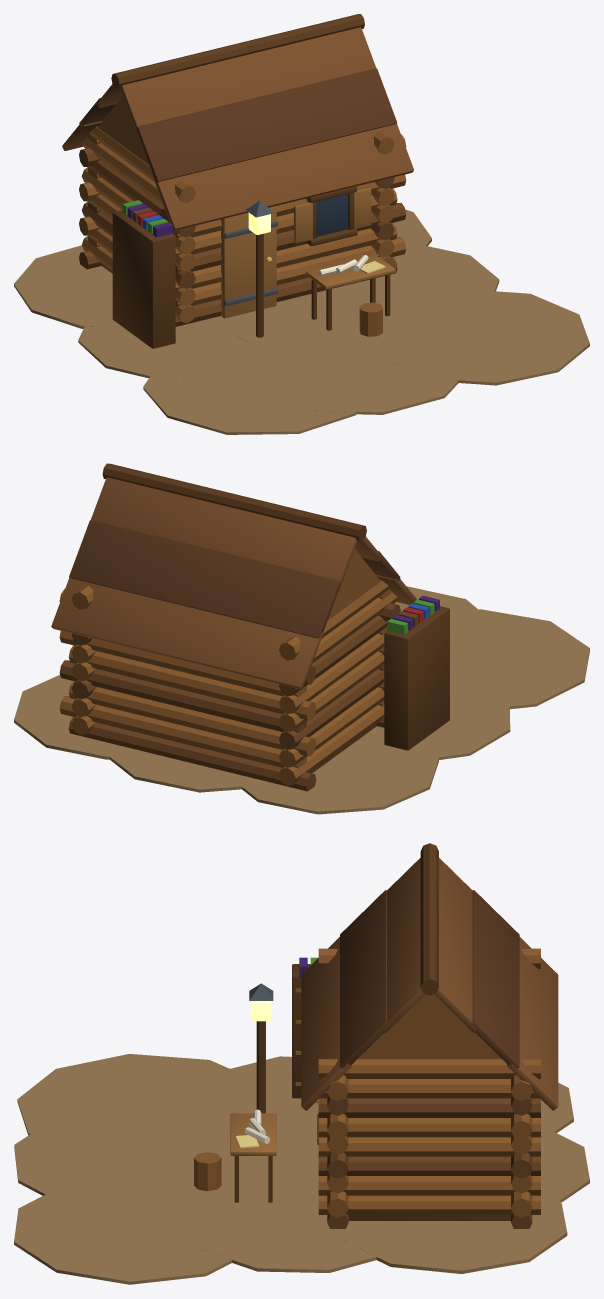
The model's file is akademia_poz02.glb.
3 views of the same model, one above another, from view 1: azimuth 30°, elevation 25°; view 2: azimuth 150°, elevation 25°; view 3: azimuth 270°, elevation 25° (orthographic). The views are drawn at different scales.
Visible parts, largest first — view 1: akademia_poz02; view 2: akademia_poz02; view 3: akademia_poz02.
Boxes of the visible parts, left/top/right/bottom form: akademia_poz02: left=14, top=14, right=589, bottom=434; akademia_poz02: left=14, top=463, right=589, bottom=814; akademia_poz02: left=14, top=843, right=589, bottom=1284.
Bounding box in the file's own units: 7.05 × 3.72 × 7.52.
